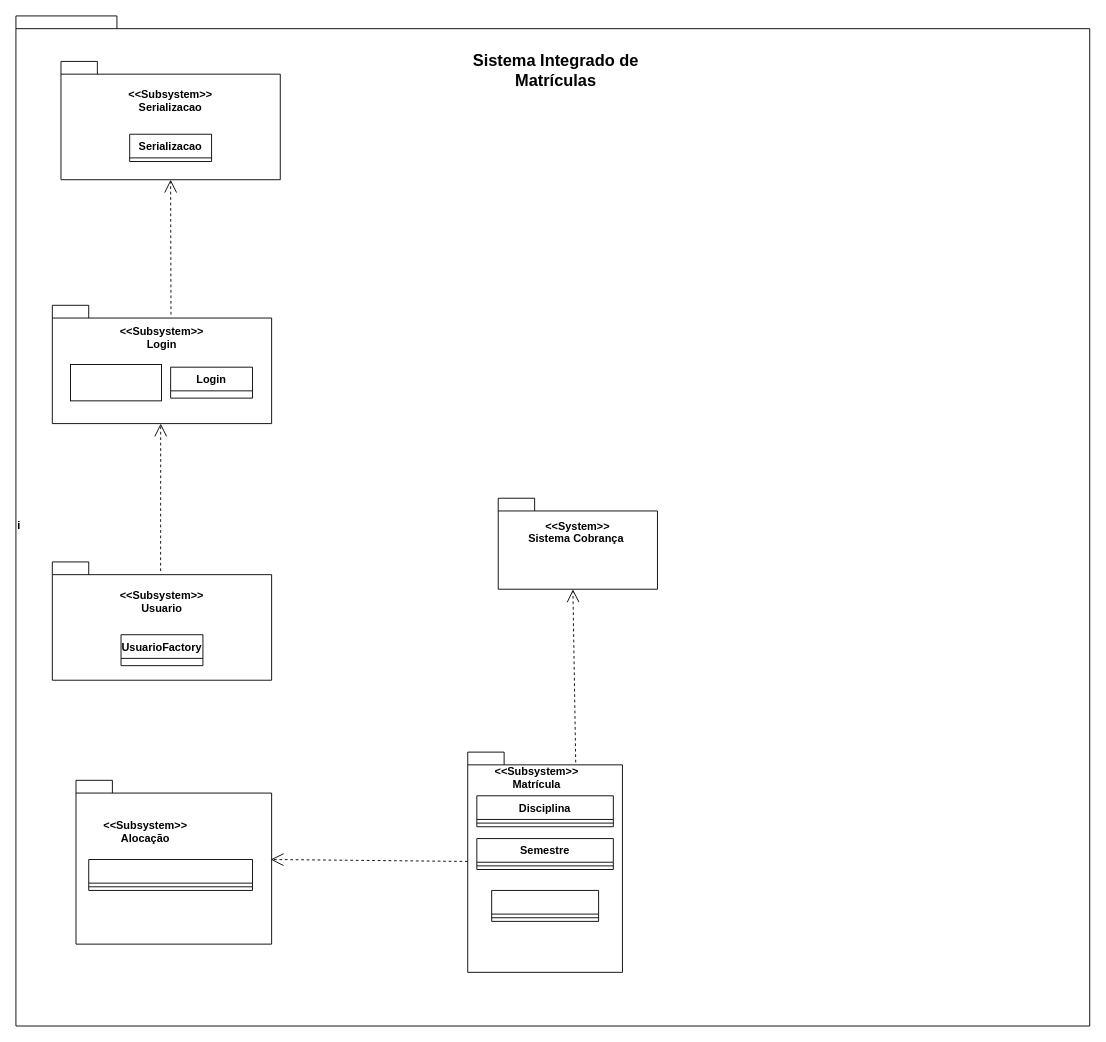
Some shapes in this 1106 by 1042 pixel diagram are drawn without their labels. Here are the shapes that lost their labels. From the top down, the centre of each, then its label:
At [116,382]: "<<Interface>> ILogin".
At [170,874]: "Turma".
At [545,905]: "Curso".
